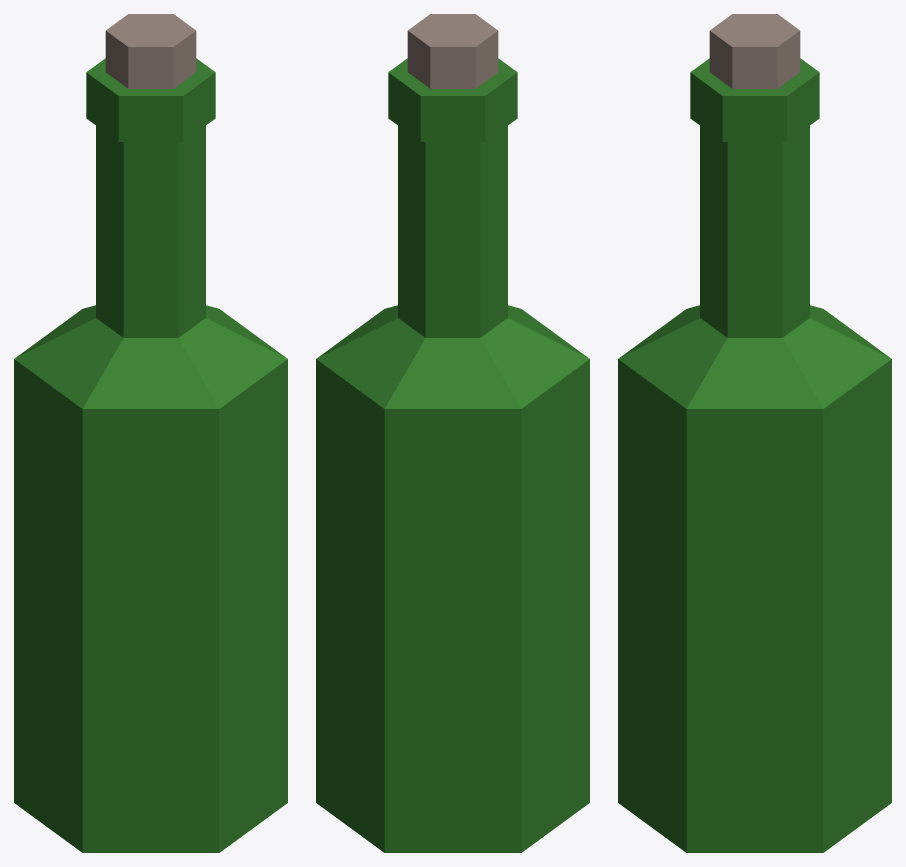
File: BOTTLE.fbx
The picture shows the model from 3 angles, left to right: view 1: azimuth 30°, elevation 25°; view 2: azimuth 150°, elevation 25°; view 3: azimuth 270°, elevation 25°; orthographic projection.
Parts seen in each view (by area): view 1: Circle; view 2: Circle; view 3: Circle.
Part boxes in pixels (x1,y1,x2,y2): Circle: [14, 14, 287, 852]; Circle: [316, 14, 589, 852]; Circle: [618, 14, 891, 852].
Size of the model in its own units: 0.5775 by 2.07 by 0.6668.
